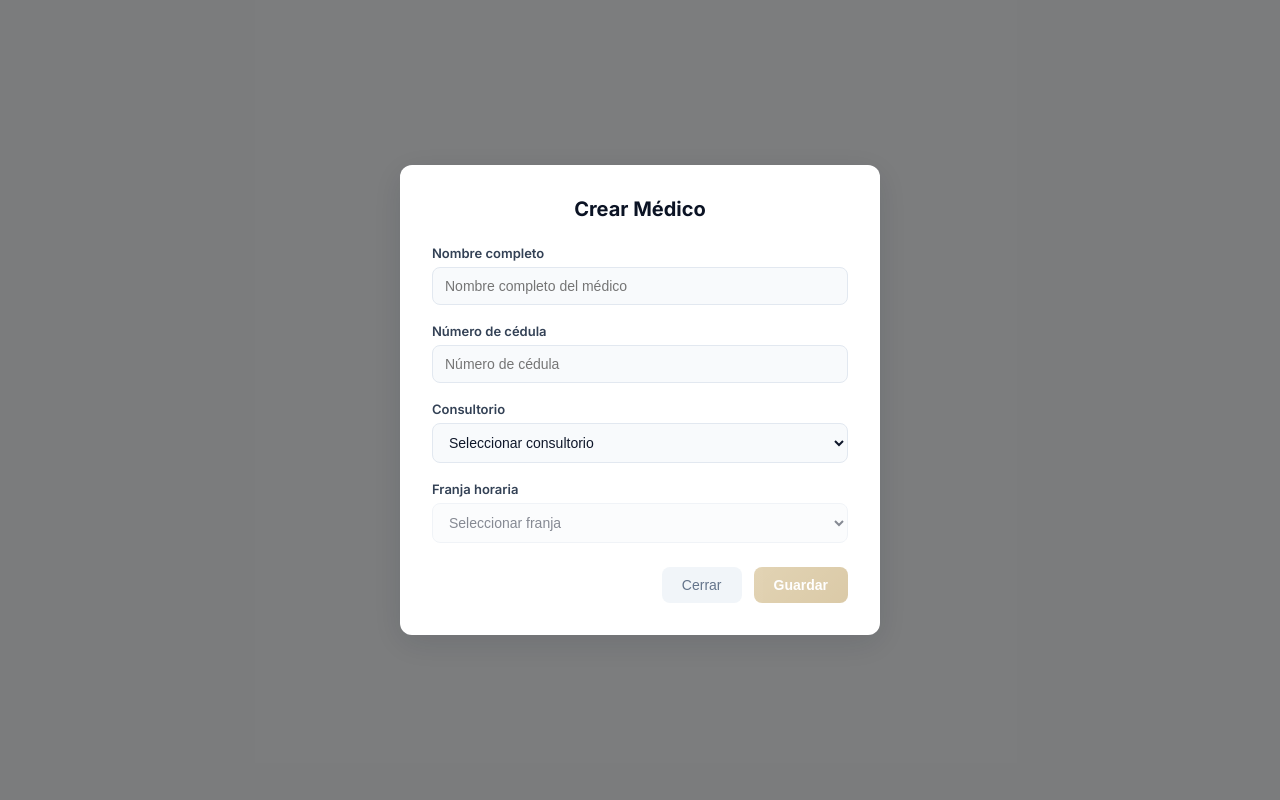
Test: DoctorFormModal › shows nombre validation error when nombre is too short and blurred
This screenshot has width=1280, height=800.
Type "AB" into the field labelled "Nombre completo" at {"x": 640, "y": 286}, box [432,267,848,305]
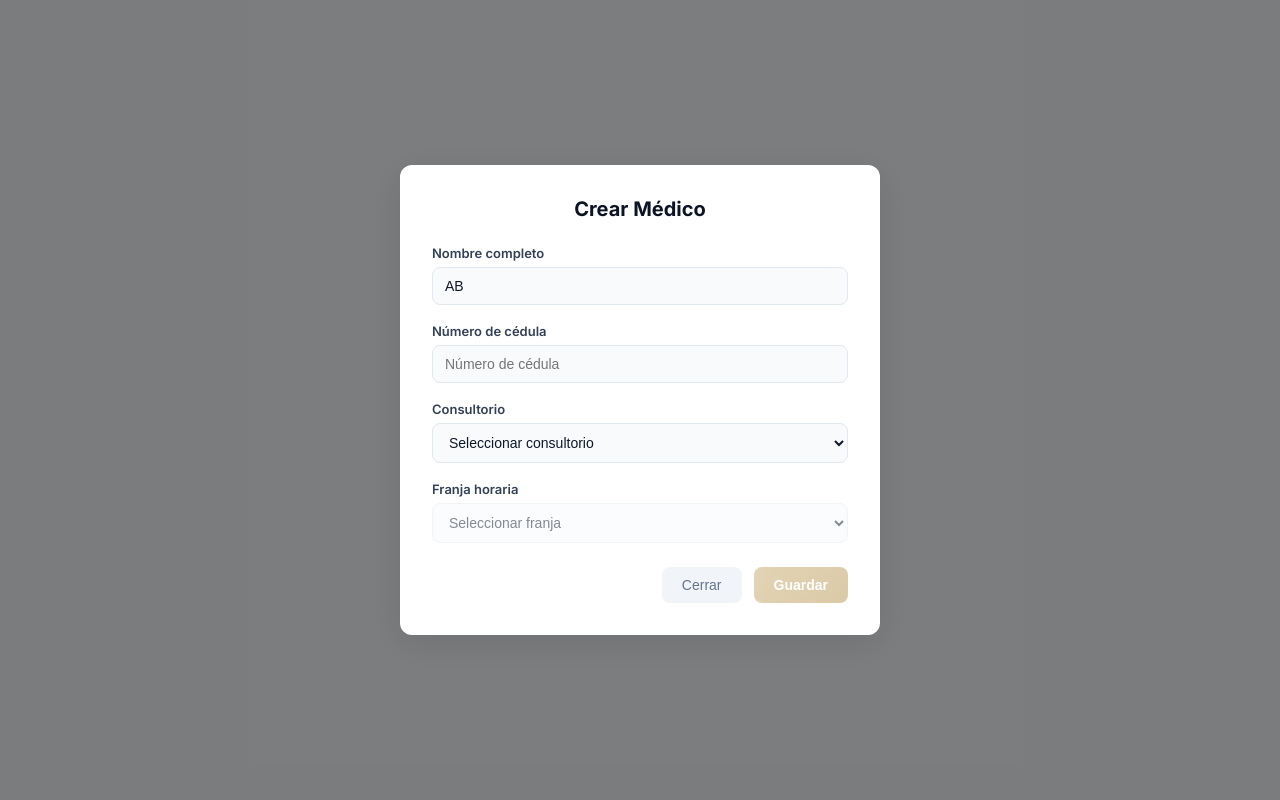
Leave the field labelled "Nombre completo", box [432,267,848,305]
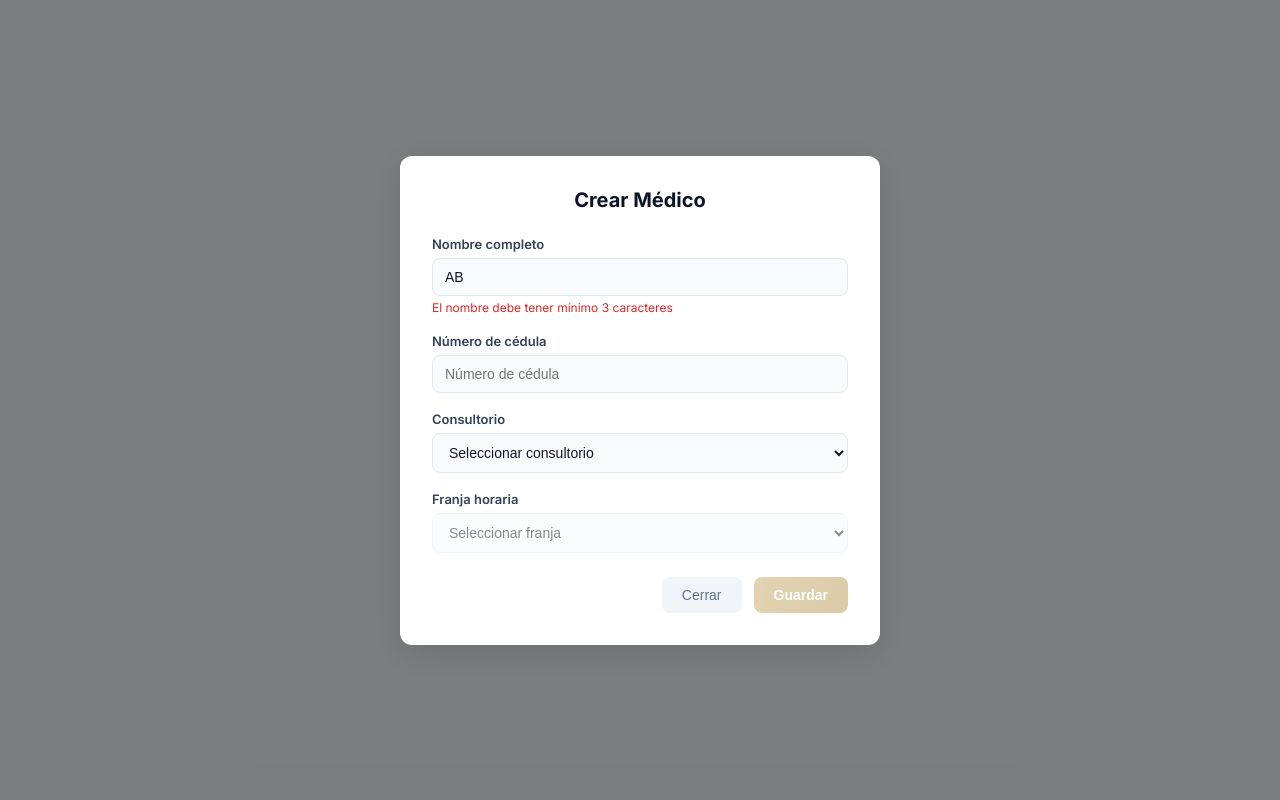
Expected: the text "El nombre debe tener mínimo 3 caracteres" is shown, [432,300,673,314]
